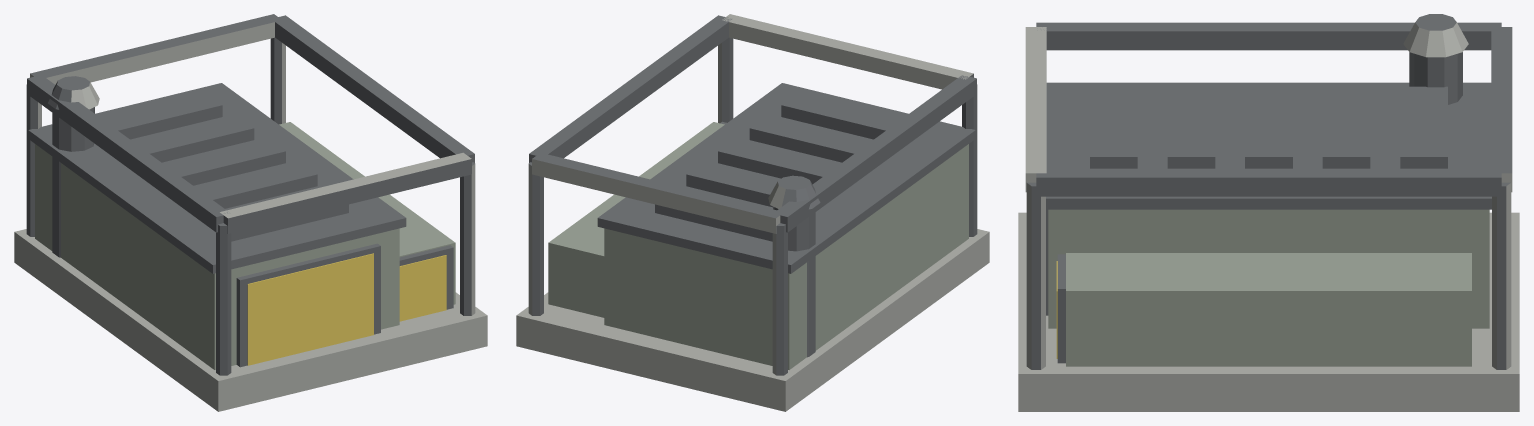
The model's file is medium_manufactory.glb.
3 views of the same model, side by side, from view 1: azimuth 30°, elevation 25°; view 2: azimuth 150°, elevation 25°; view 3: azimuth 270°, elevation 25° (orthographic). The views are drawn at different scales.
Visible parts, largest first — view 1: medium_manufactory; view 2: medium_manufactory; view 3: medium_manufactory.
Boxes of the visible parts, x1,y1,x2,y2 form: medium_manufactory: [14, 14, 487, 411]; medium_manufactory: [516, 14, 989, 411]; medium_manufactory: [1018, 14, 1519, 411].
Bounding box in the file's own units: 6.4 × 4.5 × 8.4.
